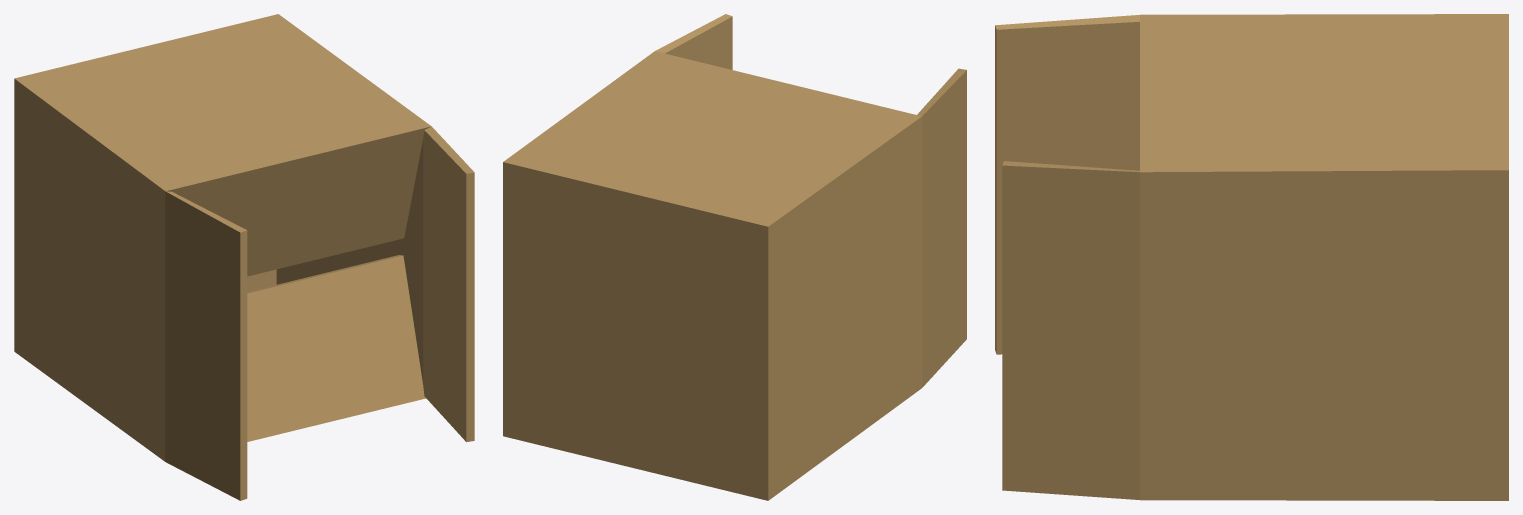
The model's file is Box_3_Plain.fbx.
3 views of the same model, side by side, from view 1: azimuth 30°, elevation 25°; view 2: azimuth 150°, elevation 25°; view 3: azimuth 270°, elevation 25° (orthographic). The views are drawn at different scales.
Parts seen in each view (by area): view 1: Box_3; view 2: Box_3; view 3: Box_3.
Boxes of the visible parts, bbox=[...] form: Box_3: bbox=[14, 14, 474, 500]; Box_3: bbox=[503, 14, 966, 500]; Box_3: bbox=[995, 14, 1508, 500].
Bounding box in the file's own units: 102 × 100 × 141.
